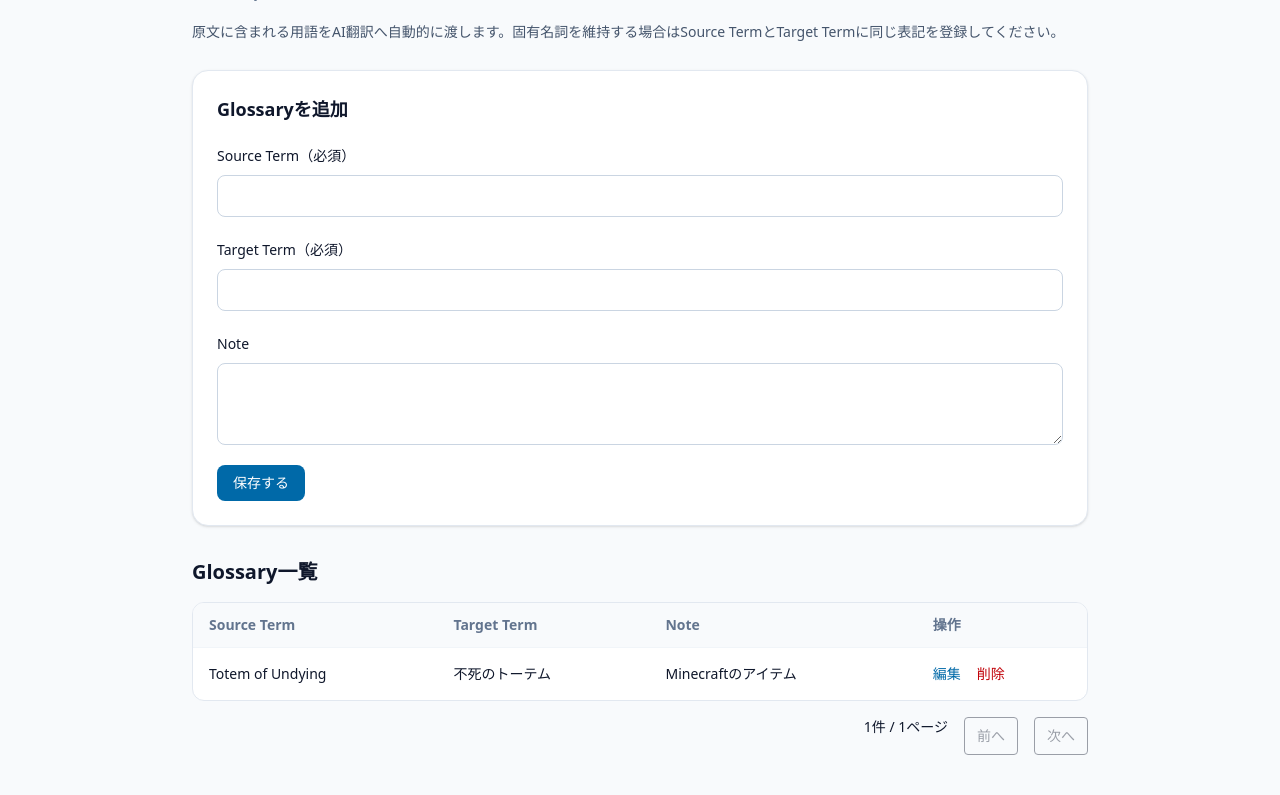
it: Project Glossary › requires confirmation for deletion and supports cancellation
(page scrolled)
Click the button with aria-label "Totem of Undyingを削除": (991, 674) [977,664,1005,684]
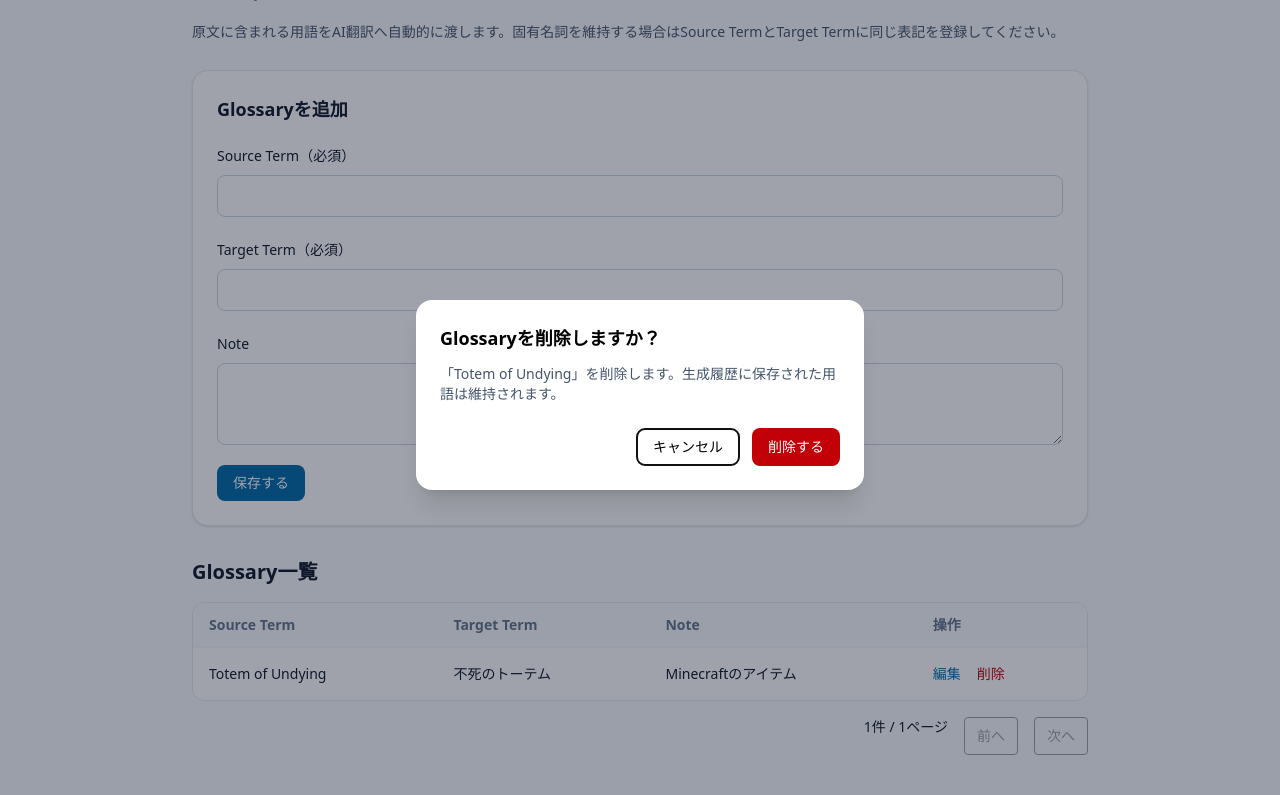
Click the button "キャンセル": (688, 447) [636,428,740,466]
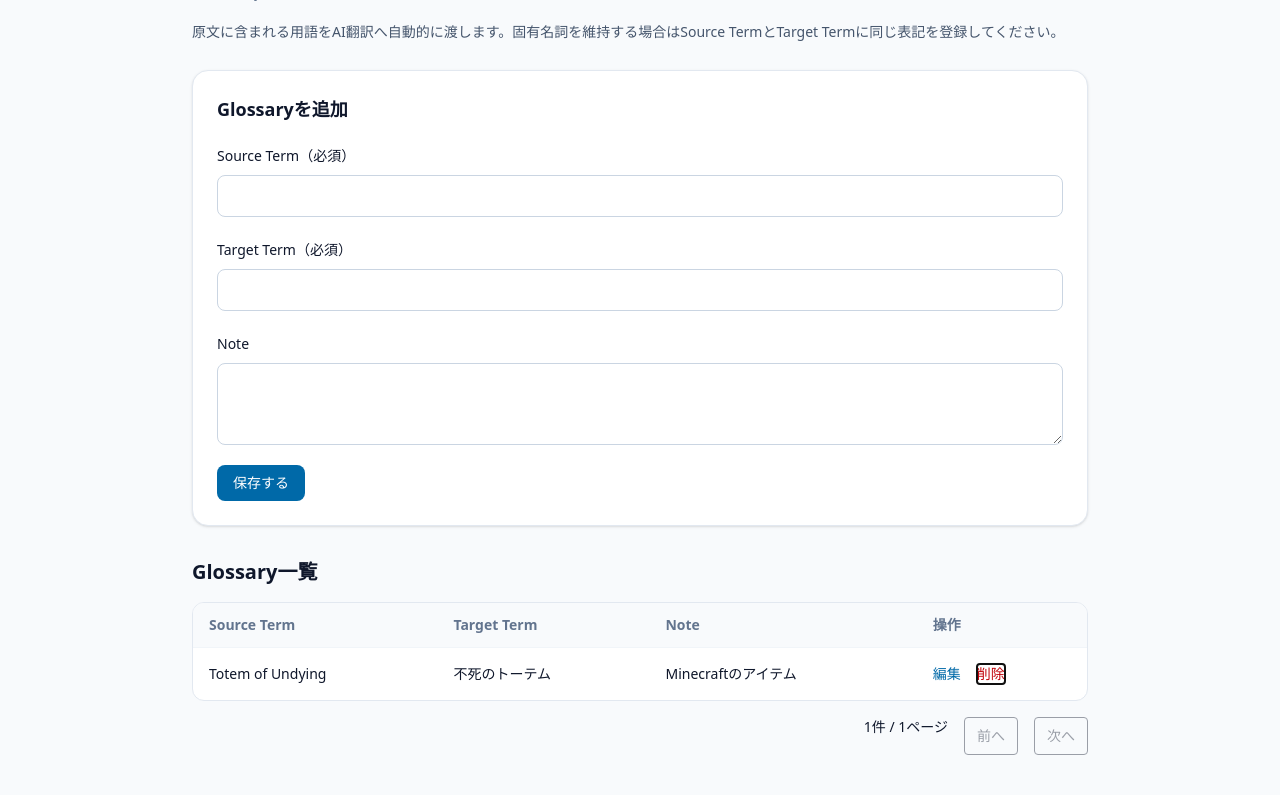
Click the button with aria-label "Totem of Undyingを削除": (991, 674) [977,664,1005,684]
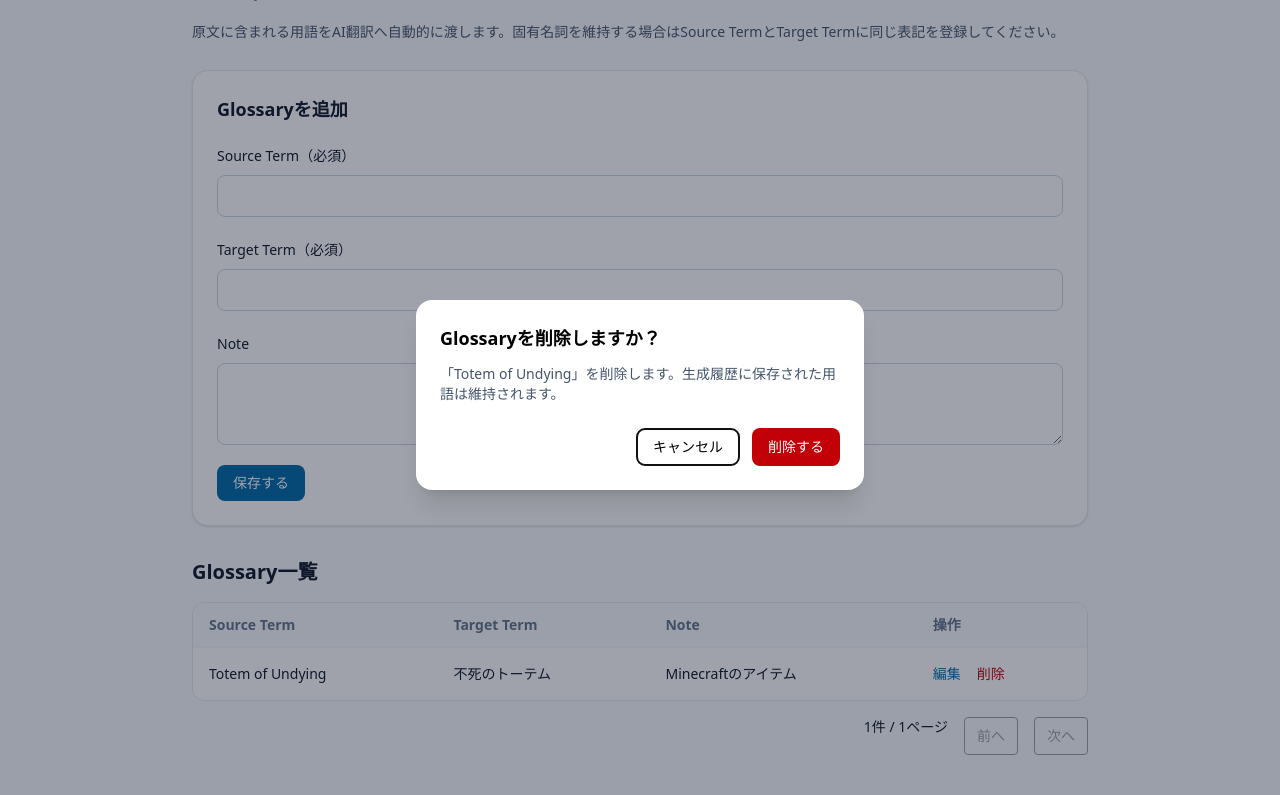
Click the button "削除する": (796, 447) [752,428,840,466]
(page scrolled)
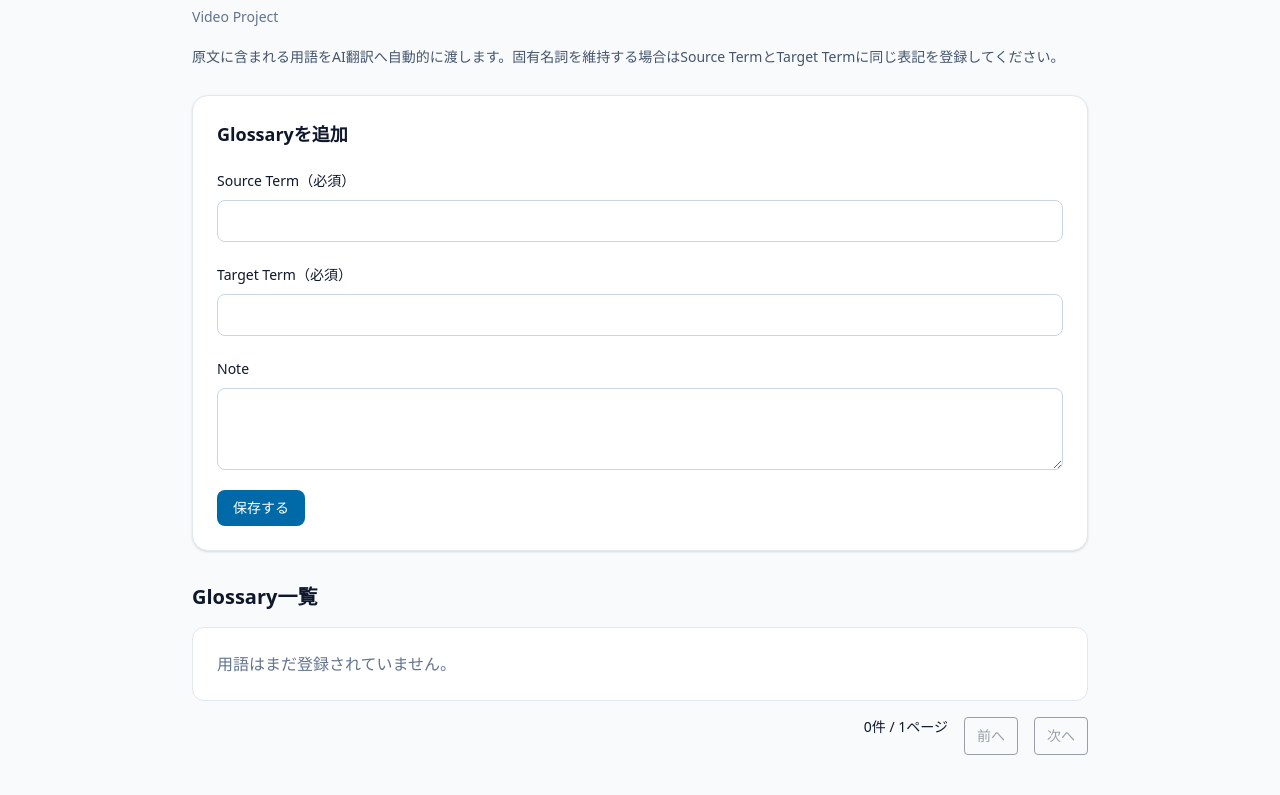
Check: the text "用語はまだ登録されていません。" is shown, box [192,627,1088,701]
